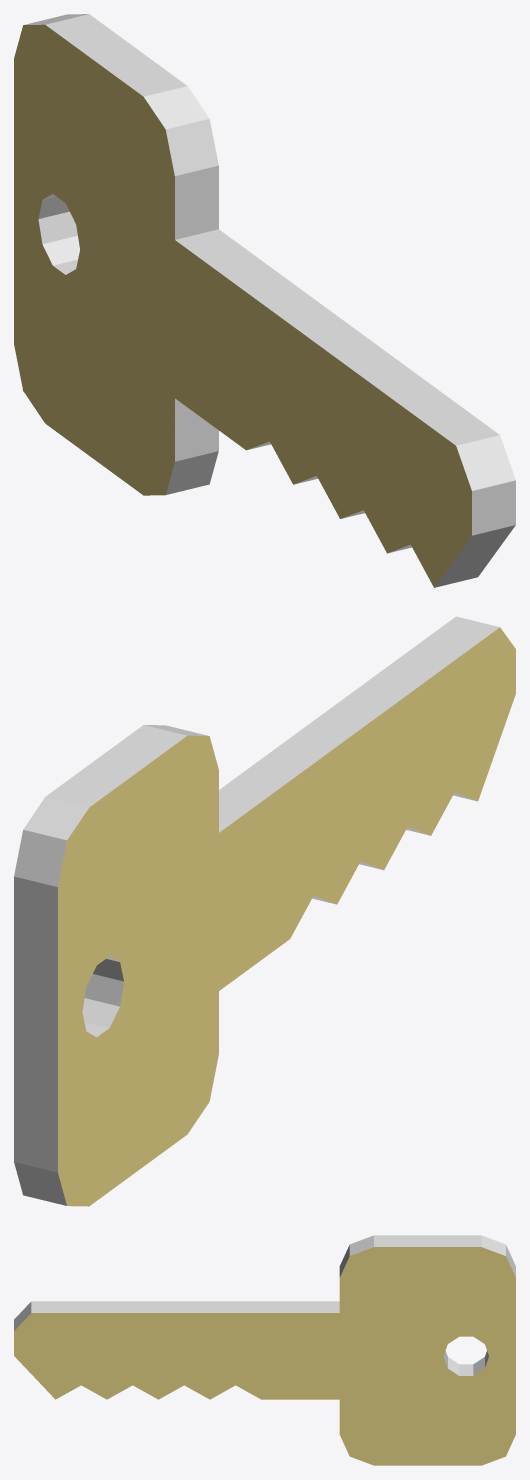
The model's file is Key 1.fbx.
3 renders of one model, top to bottom at view 1: azimuth 30°, elevation 25°; view 2: azimuth 150°, elevation 25°; view 3: azimuth 270°, elevation 25°, orthographic. The views are drawn at different scales.
Visible parts, largest first — view 1: Key 1; view 2: Key 1; view 3: Key 1.
Boxes of the visible parts, left/top/right/bottom form: Key 1: left=14, top=14, right=515, bottom=587; Key 1: left=14, top=616, right=515, bottom=1206; Key 1: left=14, top=1235, right=515, bottom=1465.
Size of the model in its own units: 0.00515 by 0.0447 by 0.093.
